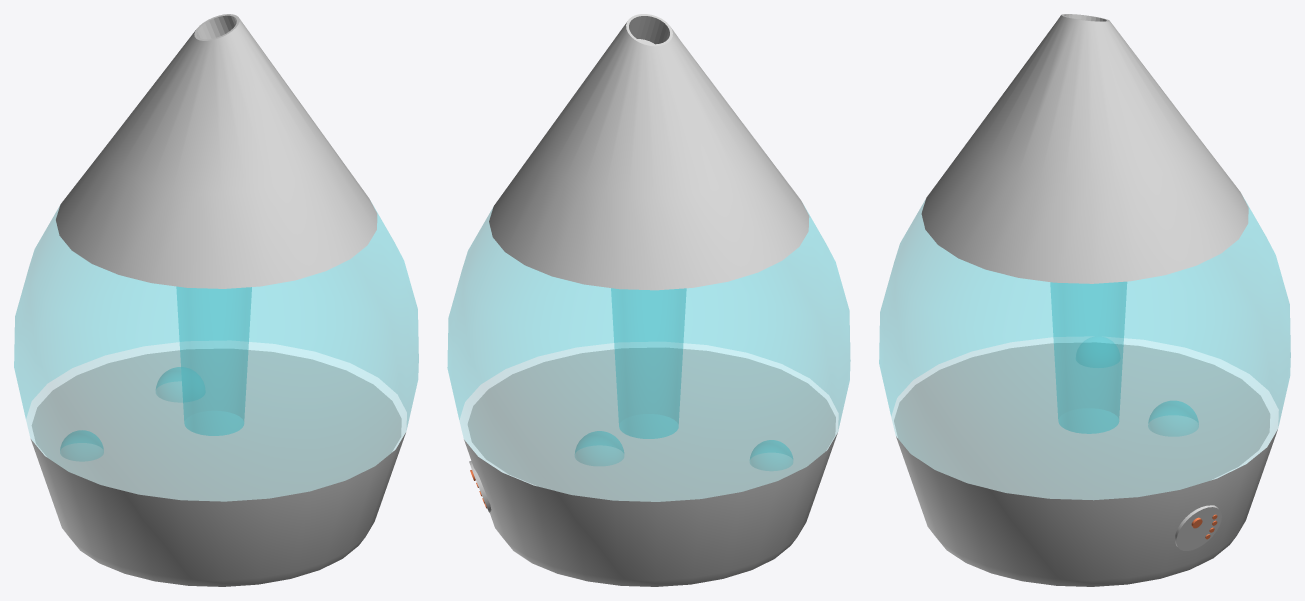
File: cbd21a24-beba-419a-a828-1da970d07ef1.glb
The picture shows the model from 3 angles, left to right: view 1: azimuth 30°, elevation 25°; view 2: azimuth 150°, elevation 25°; view 3: azimuth 270°, elevation 25°; orthographic projection. The views are drawn at different scales.
Parts seen in each view (by area): view 1: Cylinder015, Cylinder014, Cylinder013; view 2: Cylinder015, Cylinder014, Cylinder013, Sphere003; view 3: Cylinder015, Cylinder014, Cylinder013, Cylinder010, Sphere003.
Boxes of the visible parts, x1=… form: Cylinder015: x1=14, y1=14, x2=418, y2=586; Cylinder014: x1=31, y1=348, x2=401, y2=501; Cylinder013: x1=176, y1=287, x2=251, y2=435; Cylinder015: x1=447, y1=14, x2=850, y2=586; Cylinder014: x1=467, y1=347, x2=835, y2=501; Cylinder013: x1=611, y1=288, x2=686, y2=438; Sphere003: x1=575, y1=431, x2=623, y2=453; Cylinder015: x1=879, y1=14, x2=1290, y2=586; Cylinder014: x1=894, y1=342, x2=1270, y2=500; Cylinder013: x1=1050, y1=282, x2=1126, y2=433; Cylinder010: x1=1175, y1=505, x2=1221, y2=550; Sphere003: x1=1148, y1=401, x2=1198, y2=425.
Bounding box in the file's own units: 25278 × 34835 × 25257.
